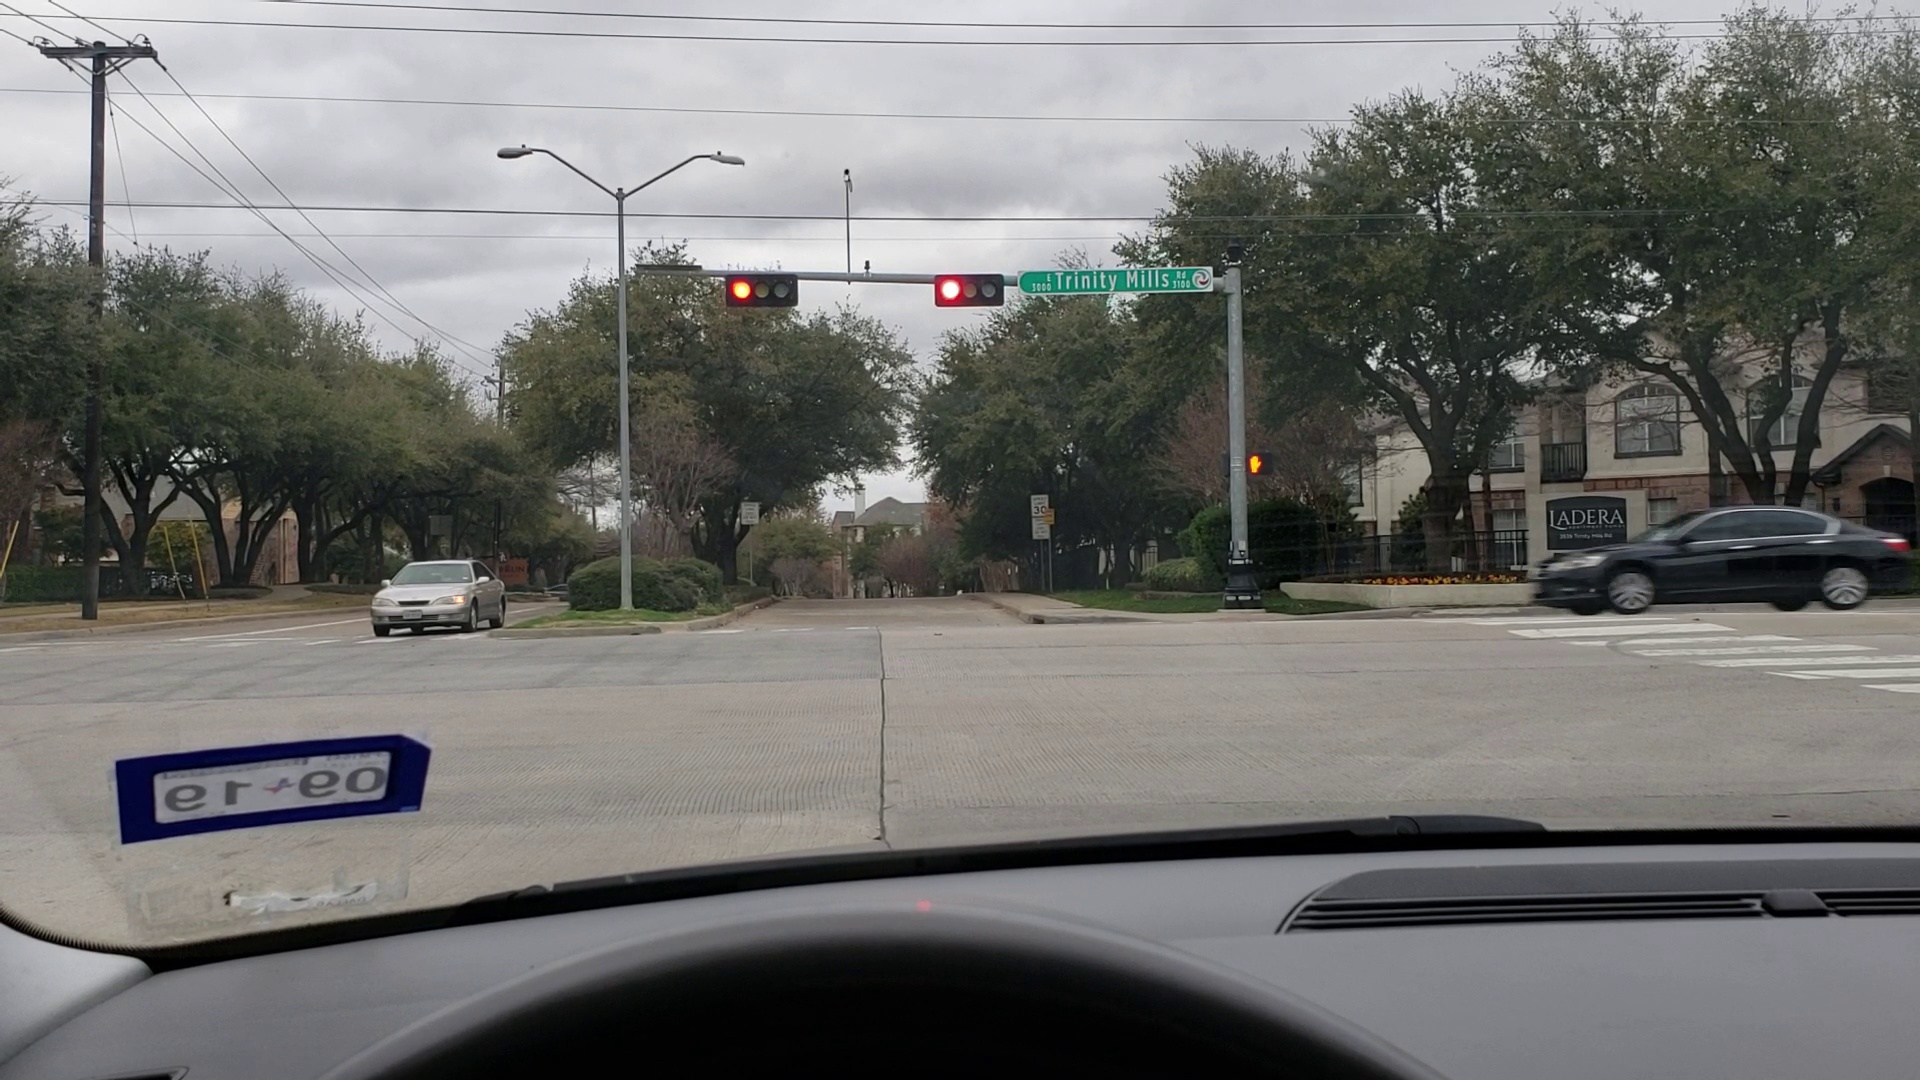car: (1534, 501, 1912, 613), (371, 555, 520, 632)
traffic light: (725, 273, 800, 309), (935, 272, 1007, 307)
